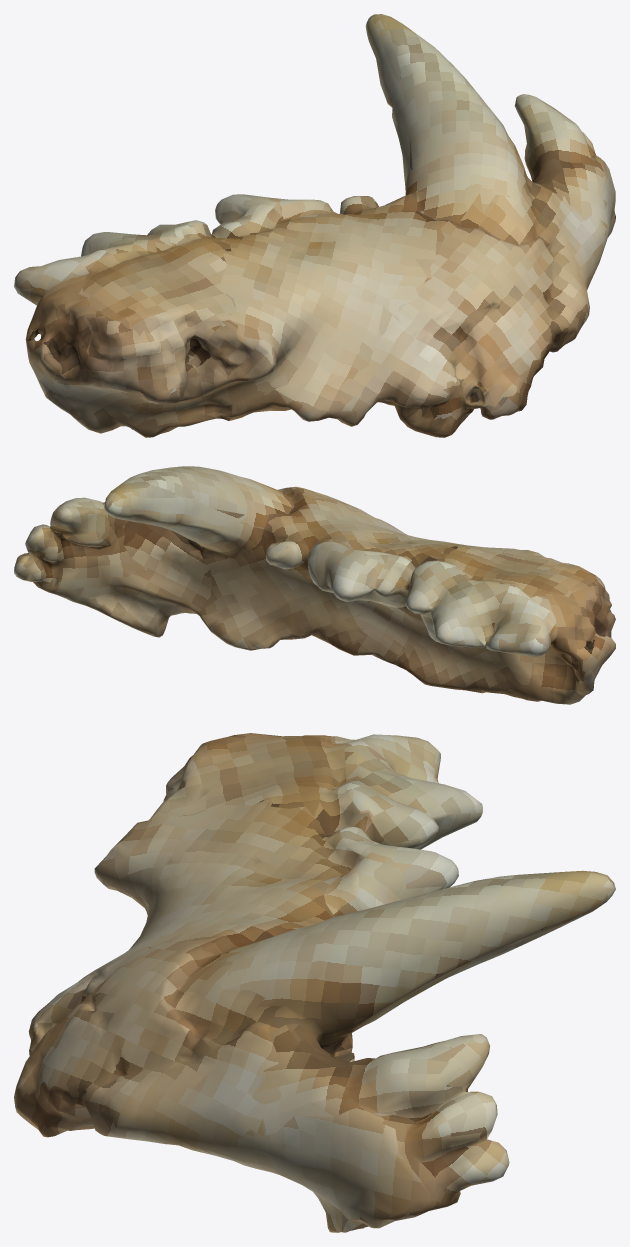
3 renders of one model, top to bottom at view 1: azimuth 30°, elevation 25°; view 2: azimuth 150°, elevation 25°; view 3: azimuth 270°, elevation 25°, orthographic. The views are drawn at different scales.
Parts seen in each view (by area): view 1: Maxilar_Leon; view 2: Maxilar_Leon; view 3: Maxilar_Leon.
Part boxes in pixels (x1,y1,x2,y2): Maxilar_Leon: (14, 14, 615, 437); Maxilar_Leon: (14, 466, 615, 704); Maxilar_Leon: (14, 733, 615, 1232).
Bounding box in the file's own units: 0.1197 × 0.0452 × 0.0757.
1 material, 1 textured.
